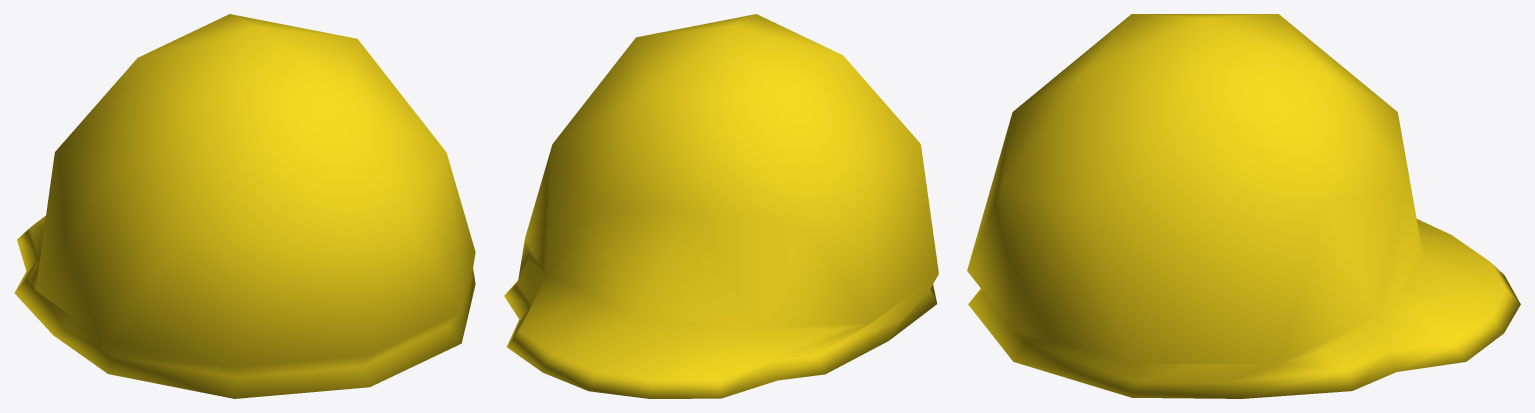
Rendered from constructionworker.fbx.
3 views of the same model, side by side, from view 1: azimuth 30°, elevation 25°; view 2: azimuth 150°, elevation 25°; view 3: azimuth 270°, elevation 25° (orthographic). The views are drawn at different scales.
Visible parts, largest first — view 1: Icosphere; view 2: Icosphere; view 3: Icosphere.
Boxes of the visible parts, box(x1,y1,x2,y2) form: Icosphere: box(14, 14, 475, 398); Icosphere: box(504, 14, 938, 398); Icosphere: box(967, 14, 1520, 398).
Size of the model in its own units: 0.4428 by 0.3134 by 0.5492.
